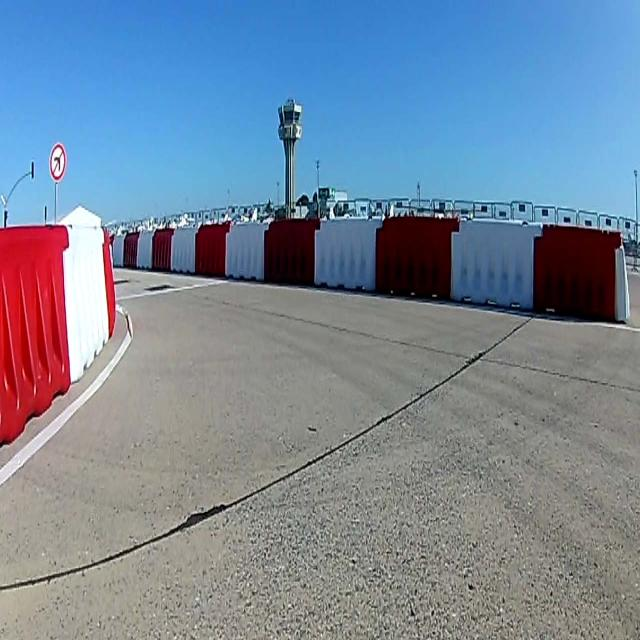soladonulmez: (49, 143, 66, 180)
